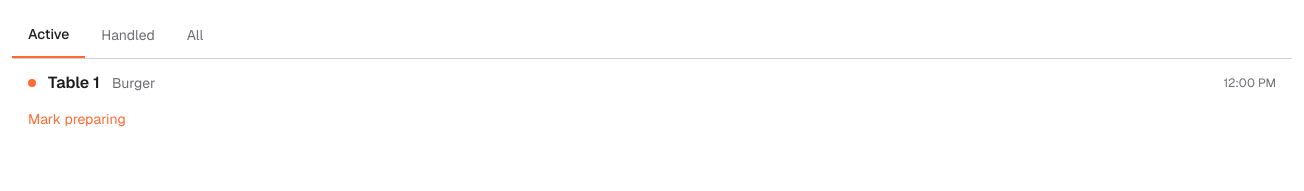
Test: OrderFeed › All tab shows all orders regardless of status
Click the tab "All" at {"x": 195, "y": 35}, box [171,12,219,58]
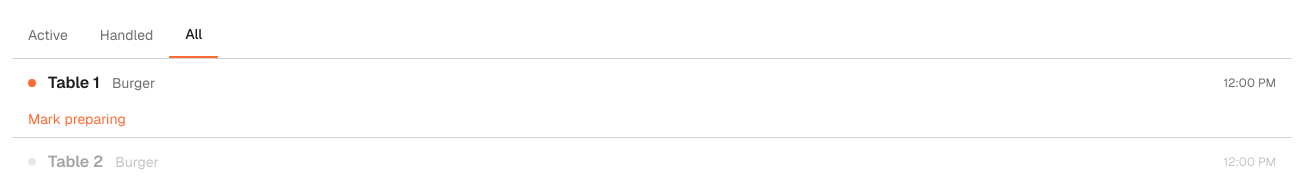
Expected: the text "Table 1" is shown, [48,71,100,95]
Result: the text "Table 2" is shown at [48,150,103,174]
